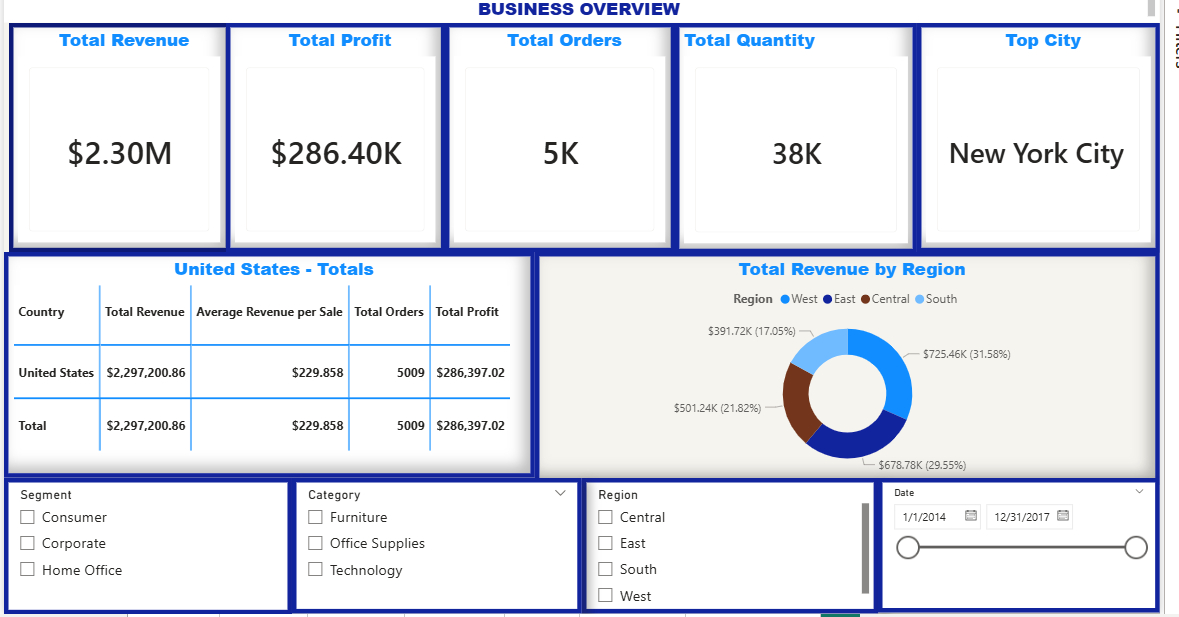

This screenshot's page, from the dashboard's own definition file:
{"tool":"powerbi","page":{"name":"Overview","canvas":[1280,720],"ordinal":0},"visuals":[{"type":"cardVisual","title":"Total Revenue","fields":{"Data":["Dates.Total Revenue"]},"box":[5.5,65.4,244.8,253.7],"z":0},{"type":"cardVisual","title":"Total Profit","fields":{"Data":["Dates.Total Profit"]},"box":[245.9,65.4,242.6,253.7],"z":1000},{"type":"cardVisual","title":"Total Orders","fields":{"Data":["Dates.Total Orders"]},"box":[488.5,65.4,254.8,253.7],"z":2000},{"type":"cardVisual","title":"Total Quantity","fields":{"Data":["Dates.Total Quantity"]},"box":[743.3,65.4,268.1,254.8],"z":3000},{"type":"cardVisual","title":"Top City","fields":{"Data":["Dates.Top City Name"]},"box":[1011.3,65.4,269.2,253.7],"z":4000},{"type":"tableEx","title":"United States - Totals","fields":{"Values":["Orders.Country","Dates.Total Revenue","Dates.Average Revenue per Sale","Dates.Total Orders","Dates.Total Profit"]},"box":[0,319,588.2,250.3],"z":5000},{"type":"actionButton","box":[0,0,100,40],"z":6000},{"type":"donutChart","fields":{"Y":["Dates.Total Revenue"],"Category":["Orders.Region"]},"box":[588.2,319,692.3,258.1],"z":7000},{"type":"slicer","fields":{"Values":["Orders.Segment"]},"box":[0,569.4,319,150.6],"z":8000},{"type":"slicer","fields":{"Values":["Orders.Region"]},"box":[640,569.3,327.7,150.4],"z":9000},{"type":"slicer","fields":{"Values":["Orders.Category"]},"box":[318.7,569.3,321.3,150.4],"z":10000},{"type":"slicer","fields":{"Values":["Dates.Date"]},"box":[967.7,569.3,312.3,149.1],"z":11000},{"type":"textbox","box":[0,29.9,1280.5,35.4],"z":12000}]}

Visuals, with their boxes in screenshot pixels (x1, y1, x2, y2):
"Total Revenue" cardVisual: 2,23,224,253
"Total Profit" cardVisual: 220,23,441,253
"Total Orders" cardVisual: 441,23,672,253
"Total Quantity" cardVisual: 672,23,916,254
"Top City" cardVisual: 916,23,1160,253
"United States - Totals" tableEx: 0,253,531,480
donutChart - Dates.Total Revenue x Orders.Region: 531,253,1160,487
slicer - Orders.Segment: 0,480,287,616
slicer - Orders.Region: 578,480,876,616
slicer - Orders.Category: 286,480,578,616
slicer - Dates.Date: 876,480,1160,616
textbox: 0,0,1160,22
